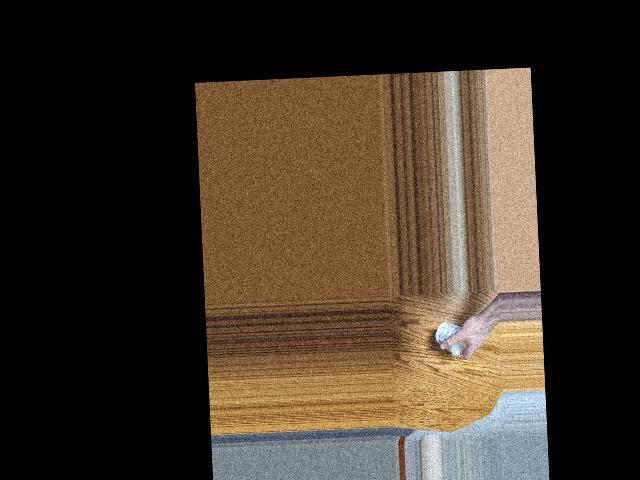cotage: (437, 320, 469, 356)
